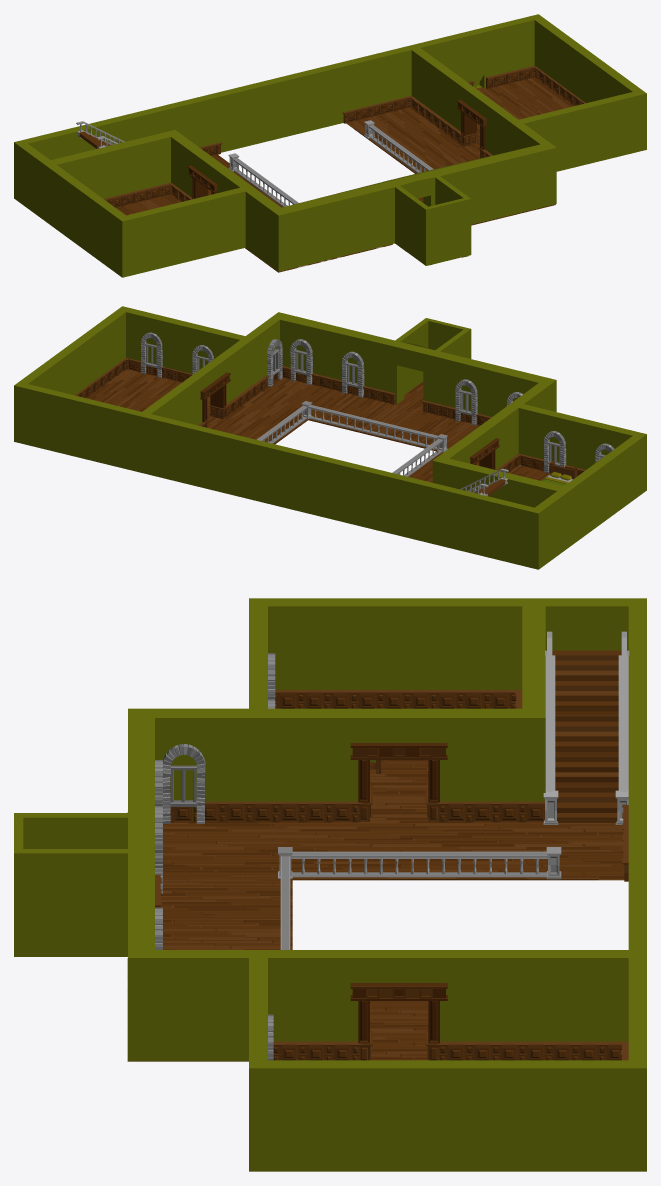
The model's file is castle_town_interior_floor 2.fbx.
The picture shows the model from 3 angles, top to bottom: view 1: azimuth 30°, elevation 25°; view 2: azimuth 150°, elevation 25°; view 3: azimuth 270°, elevation 25°; orthographic projection. The views are drawn at different scales.
Visible parts, largest first — view 1: floor2-wall, floor 2.001, railing.002, stair.006; view 2: floor2-wall, floor 2.001, CASTLE OBJECT.003, railing.002, stair.006, Cube.002; view 3: floor2-wall, floor 2.001, stair.006, railing.002, CASTLE OBJECT.003.
Part boxes in pixels (x1=…): floor2-wall: x1=14, y1=14, x2=646, y2=277; floor 2.001: x1=116, y1=77, x2=573, y2=272; railing.002: x1=228, y1=120, x2=433, y2=206; stair.006: x1=76, y1=121, x2=124, y2=148; floor2-wall: x1=14, y1=306, x2=646, y2=569; floor 2.001: x1=86, y1=369, x2=550, y2=482; CASTLE OBJECT.003: x1=141, y1=332, x2=614, y2=472; railing.002: x1=257, y1=401, x2=447, y2=476; stair.006: x1=460, y1=468, x2=508, y2=496; Cube.002: x1=541, y1=461, x2=577, y2=486; floor2-wall: x1=14, y1=598, x2=646, y2=1171; floor 2.001: x1=127, y1=760, x2=624, y2=1061; stair.006: x1=543, y1=631, x2=629, y2=825; railing.002: x1=278, y1=847, x2=561, y2=949; CASTLE OBJECT.003: x1=155, y1=653, x2=275, y2=1060.
Bounding box in the file's own units: 18356 × 4148 × 32259.
